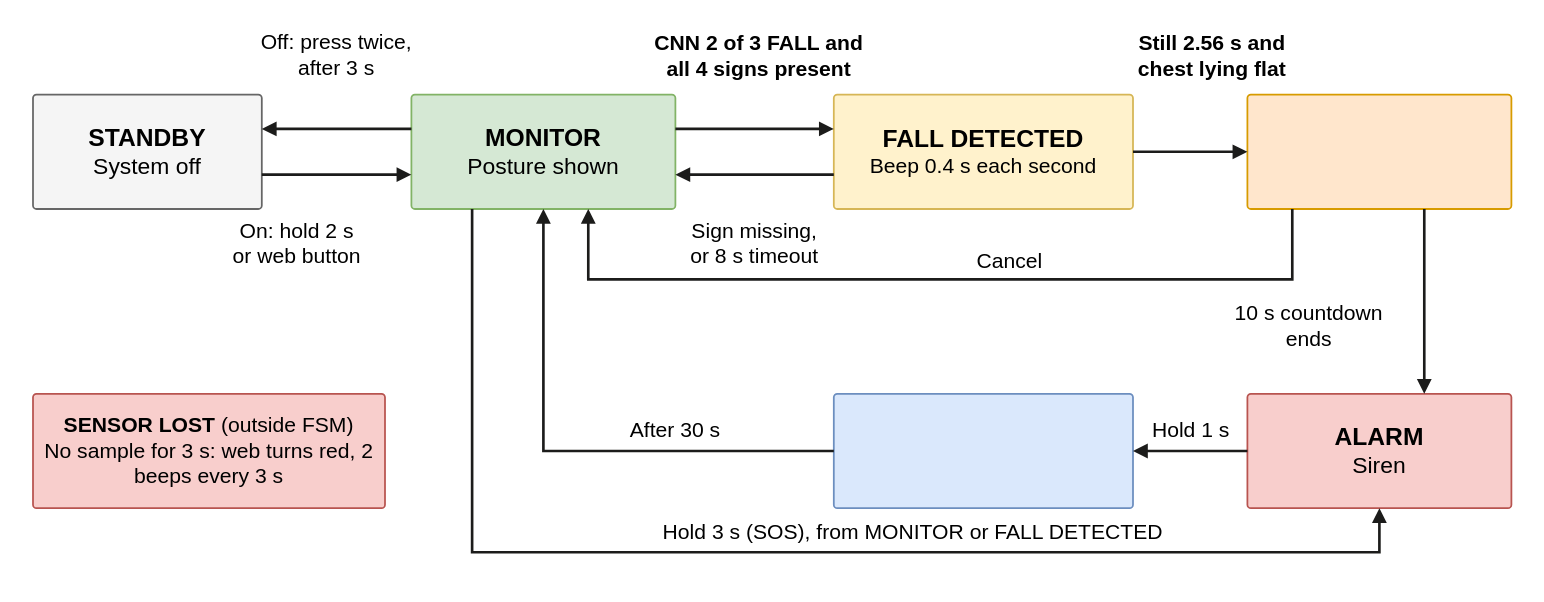
Some shapes in this 1544 by 602 pixel diagram are drawn without their labels. Each missing label, with the centre of its shape:
"COOLDOWN 30 s pause" goes at (982,450).
"PRE-ALARM 2 beeps/s, cancellable" goes at (1379,151).
